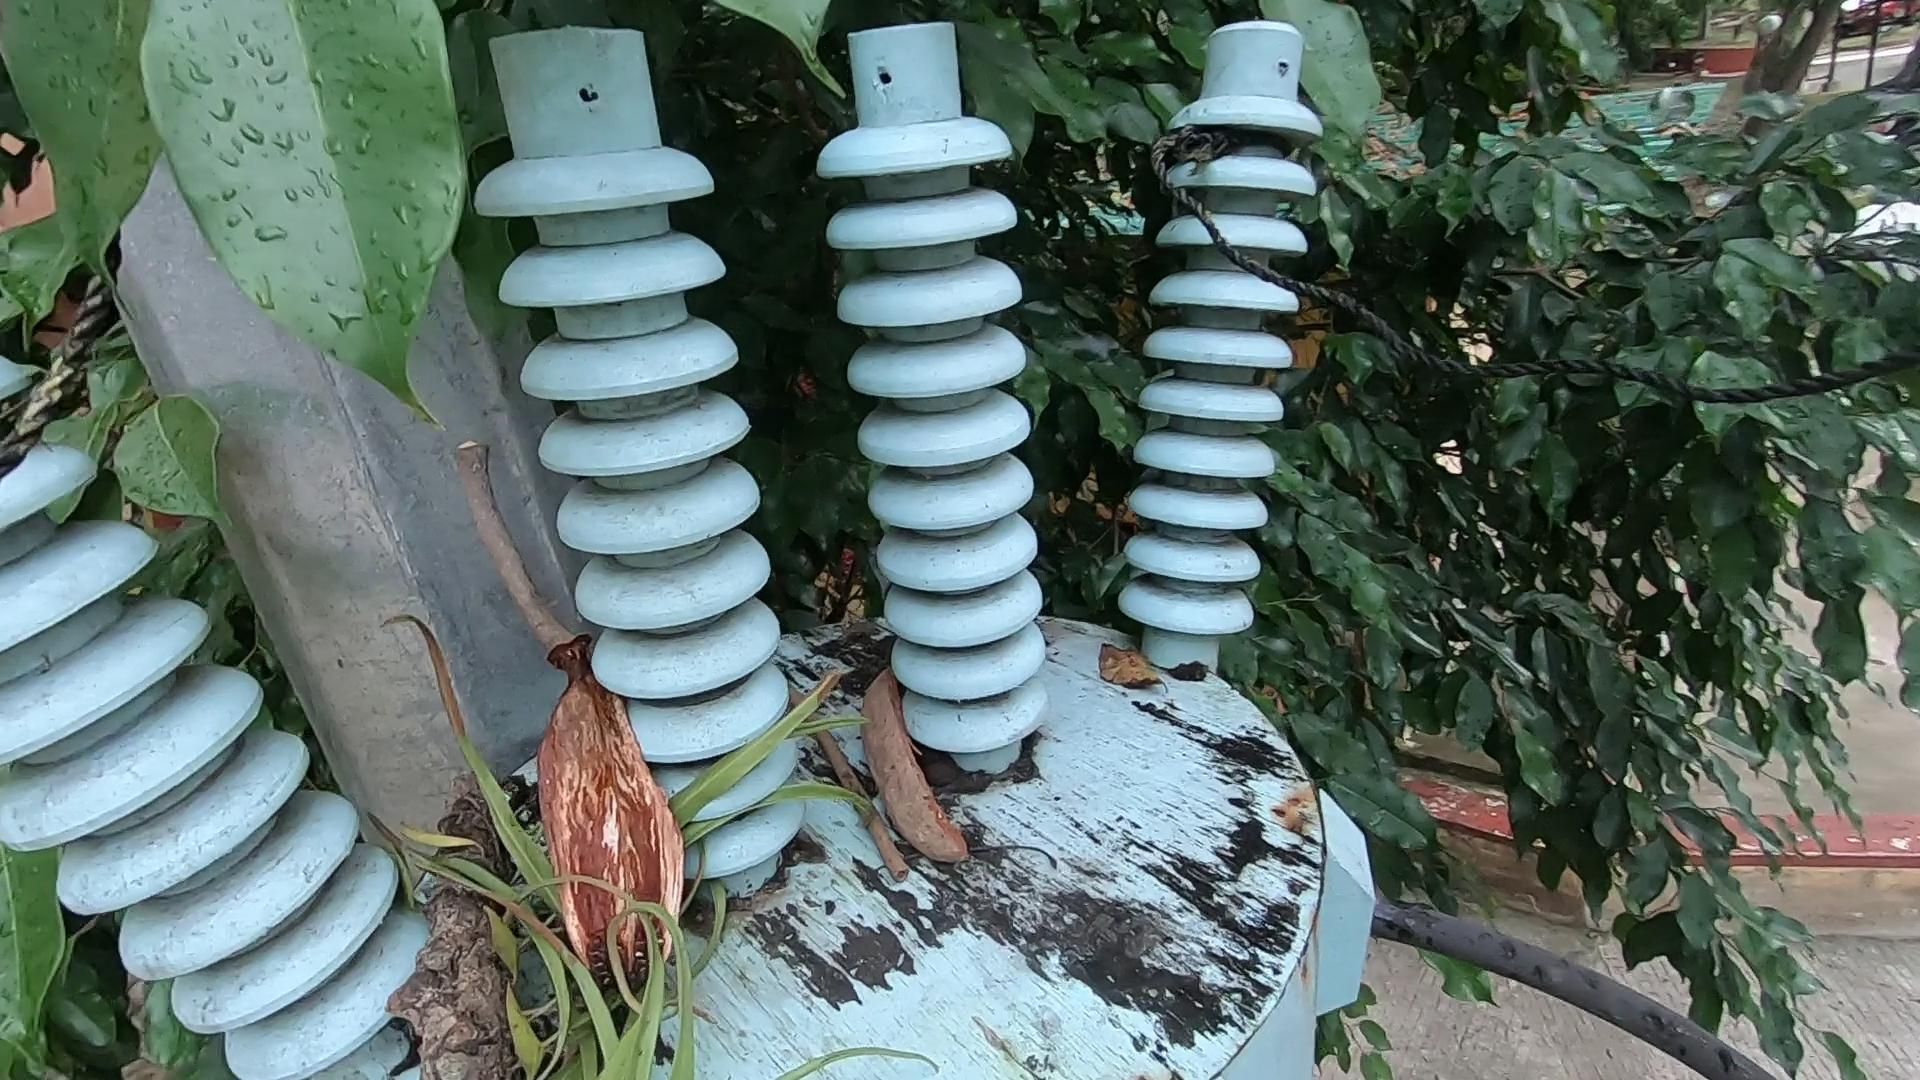branch with leaves: (410, 774, 790, 1080)
leaf: (1098, 611, 1183, 736)
mahogany fruit: (527, 651, 654, 1011), (858, 676, 963, 884)
tree branch: (443, 446, 599, 667), (791, 690, 931, 926)
